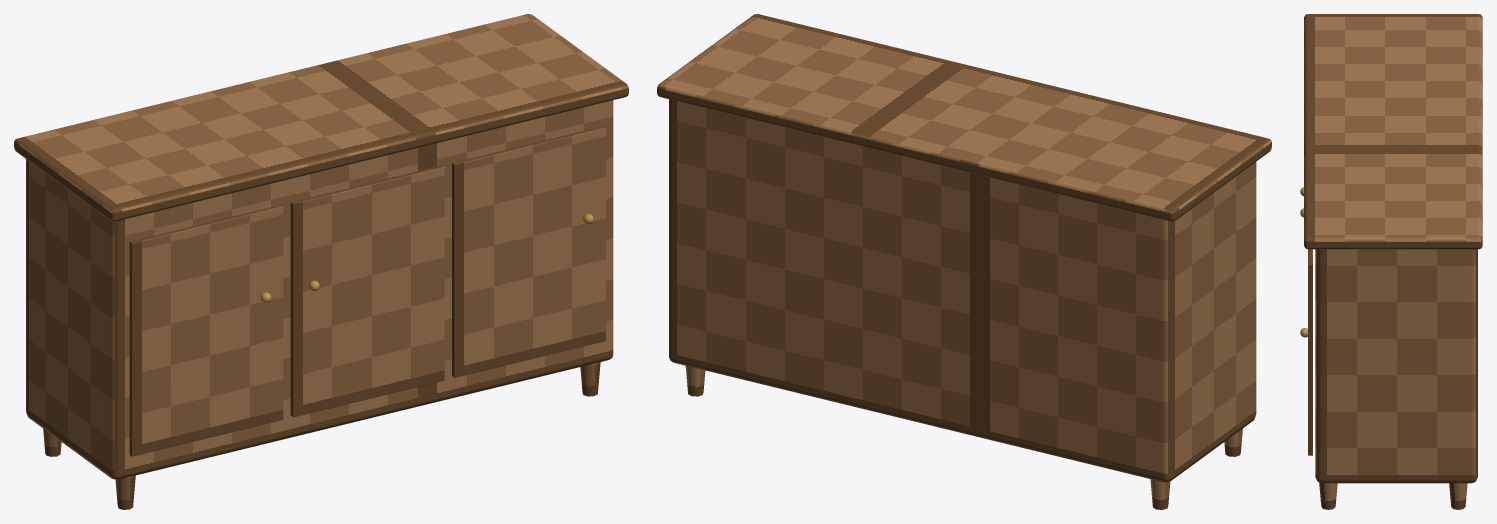
The model's file is cabinet.glb.
3 views of the same model, side by side, from view 1: azimuth 30°, elevation 25°; view 2: azimuth 150°, elevation 25°; view 3: azimuth 270°, elevation 25° (orthographic). The views are drawn at different scales.
Parts seen in each view (by area): view 1: dyn_wood_variant; view 2: dyn_wood_variant; view 3: dyn_wood_variant.
Boxes of the visible parts, x1,y1,x2,y2 form: dyn_wood_variant: (14, 14, 628, 509); dyn_wood_variant: (657, 14, 1271, 509); dyn_wood_variant: (1304, 14, 1482, 509).
Bounding box in the file's own units: 1.65 × 0.9501 × 0.562.
Materials: 2 (2 with a texture image).
